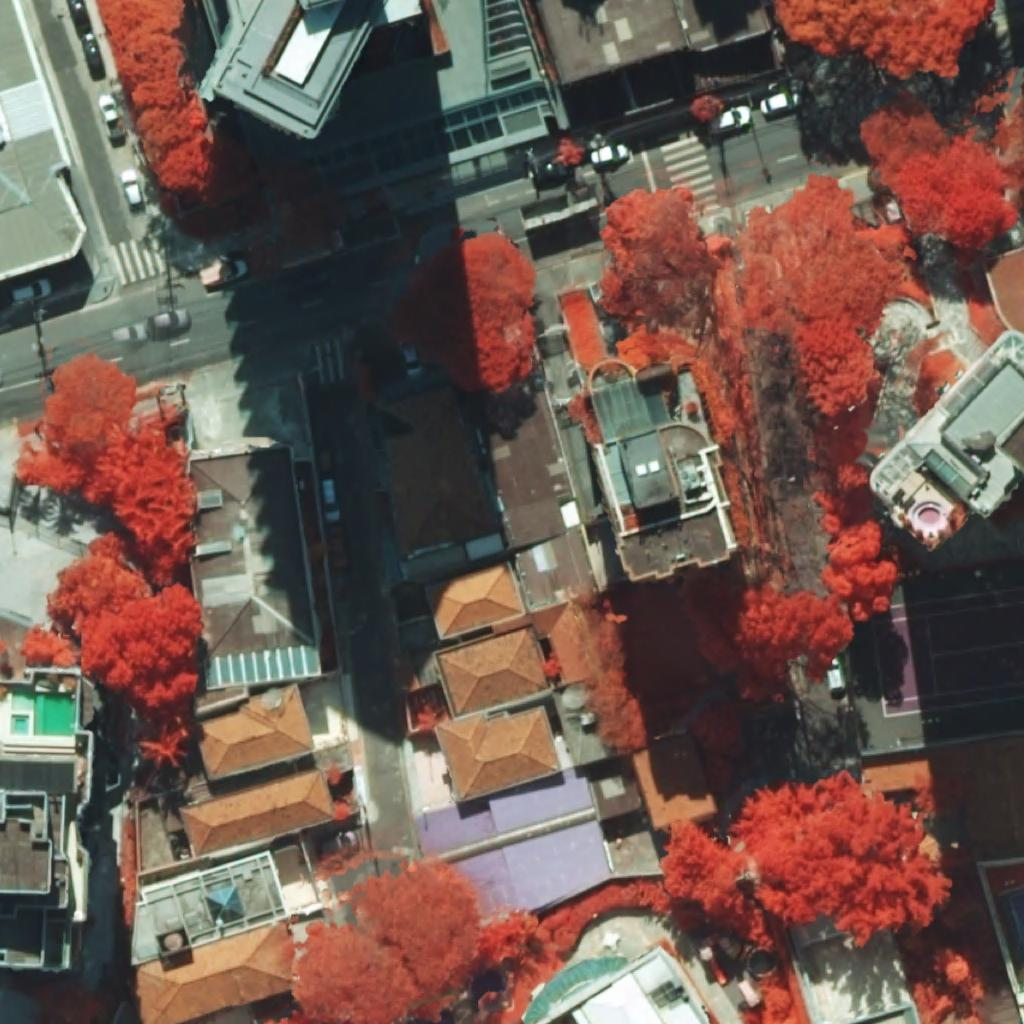pool: (34, 692, 76, 736), (10, 715, 29, 735)
